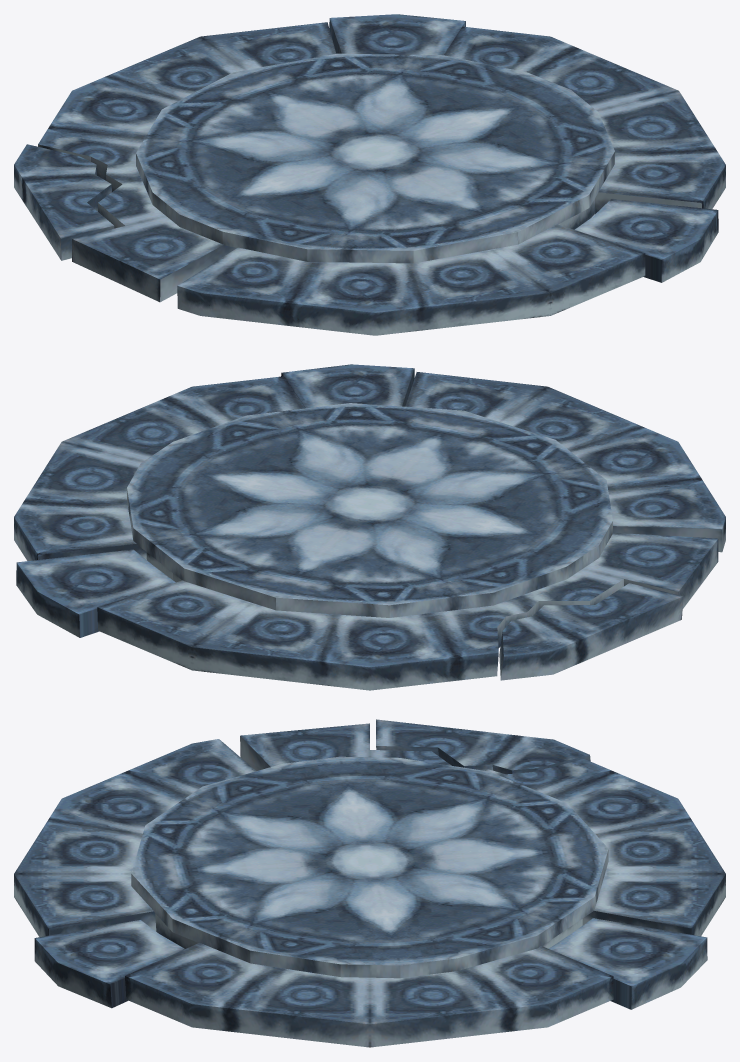
The model's file is Ice_platform11.FBX.
3 views of the same model, one above another, from view 1: azimuth 30°, elevation 25°; view 2: azimuth 150°, elevation 25°; view 3: azimuth 270°, elevation 25° (orthographic).
Parts seen in each view (by area): view 1: Object15884; view 2: Object15884; view 3: Object15884.
Part boxes in pixels (<box>): Object15884: <box>14,14,725,335</box>; Object15884: <box>14,364,725,690</box>; Object15884: <box>14,719,725,1047</box>.
Size of the model in its own units: 596 by 36.56 by 588.
